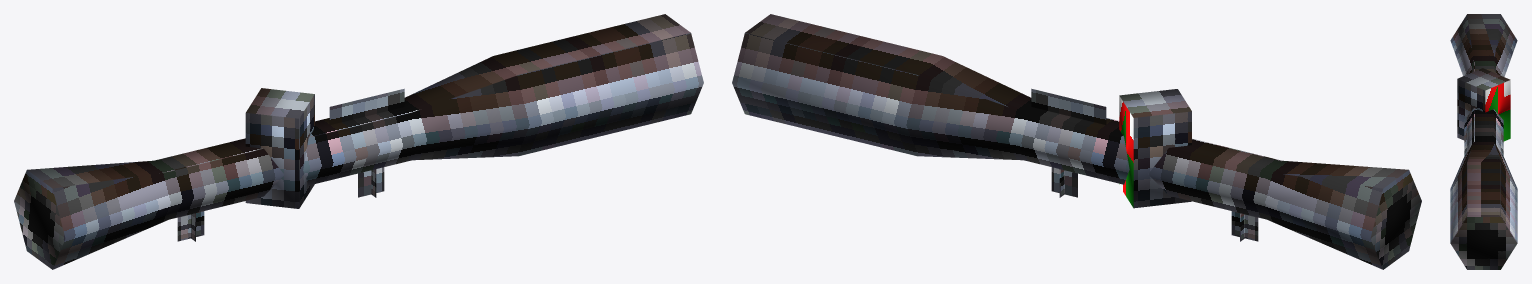
Rendered from stoner_sr25__N002_scope_v0100.glb.
3 views of the same model, side by side, from view 1: azimuth 30°, elevation 25°; view 2: azimuth 150°, elevation 25°; view 3: azimuth 270°, elevation 25° (orthographic). The views are drawn at different scales.
Visible parts, largest first — view 1: N002_scope_v0100; view 2: N002_scope_v0100; view 3: N002_scope_v0100.
Boxes of the visible parts, x1,y1,x2,y2 form: N002_scope_v0100: (14, 14, 703, 269); N002_scope_v0100: (732, 14, 1421, 269); N002_scope_v0100: (1450, 14, 1517, 269).
Bounding box in the file's own units: 0.3764 × 0.0638 × 0.0526.
Materials: 2 (2 with a texture image).
